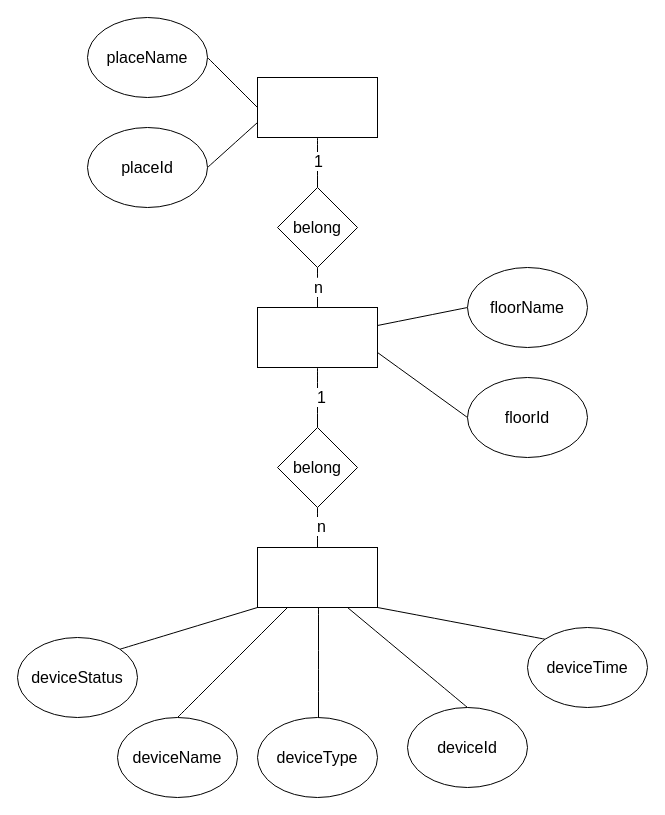
Image size: 665x815. Some labels were removed from this diagram. Here are the shapes that lost their labels. From the top down, the centre of each, then its label:
(x=317, y=107): place
(x=317, y=337): floor
(x=317, y=577): device
